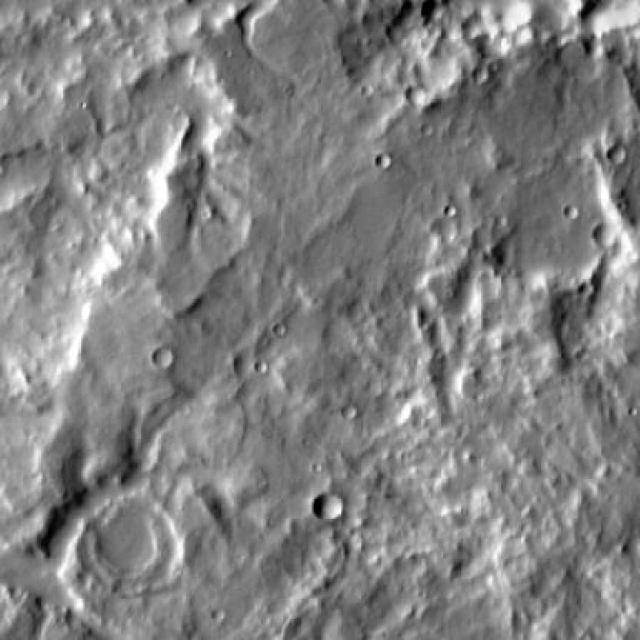crater: (80, 501, 183, 604), (316, 494, 346, 524), (588, 230, 610, 253), (154, 351, 174, 371), (409, 86, 429, 106), (610, 146, 627, 163)
